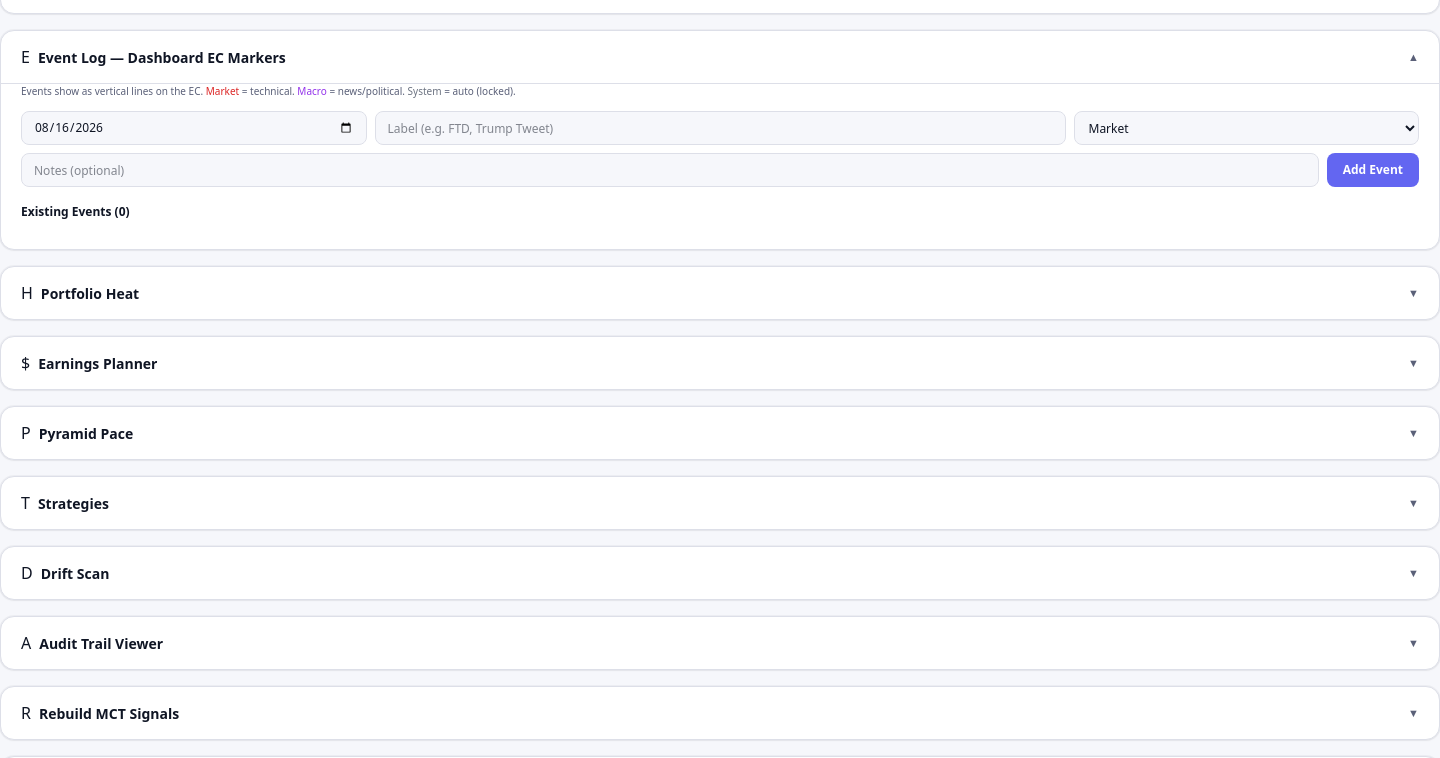
Admin — Strategies section › Add Strategy modal: client-side hex validation blocks submit on bad color
The image size is (1440, 758).
(page scrolled)
Click the text "Strategies" at (73, 503), box top-left (38, 494), bottom-right (109, 512)
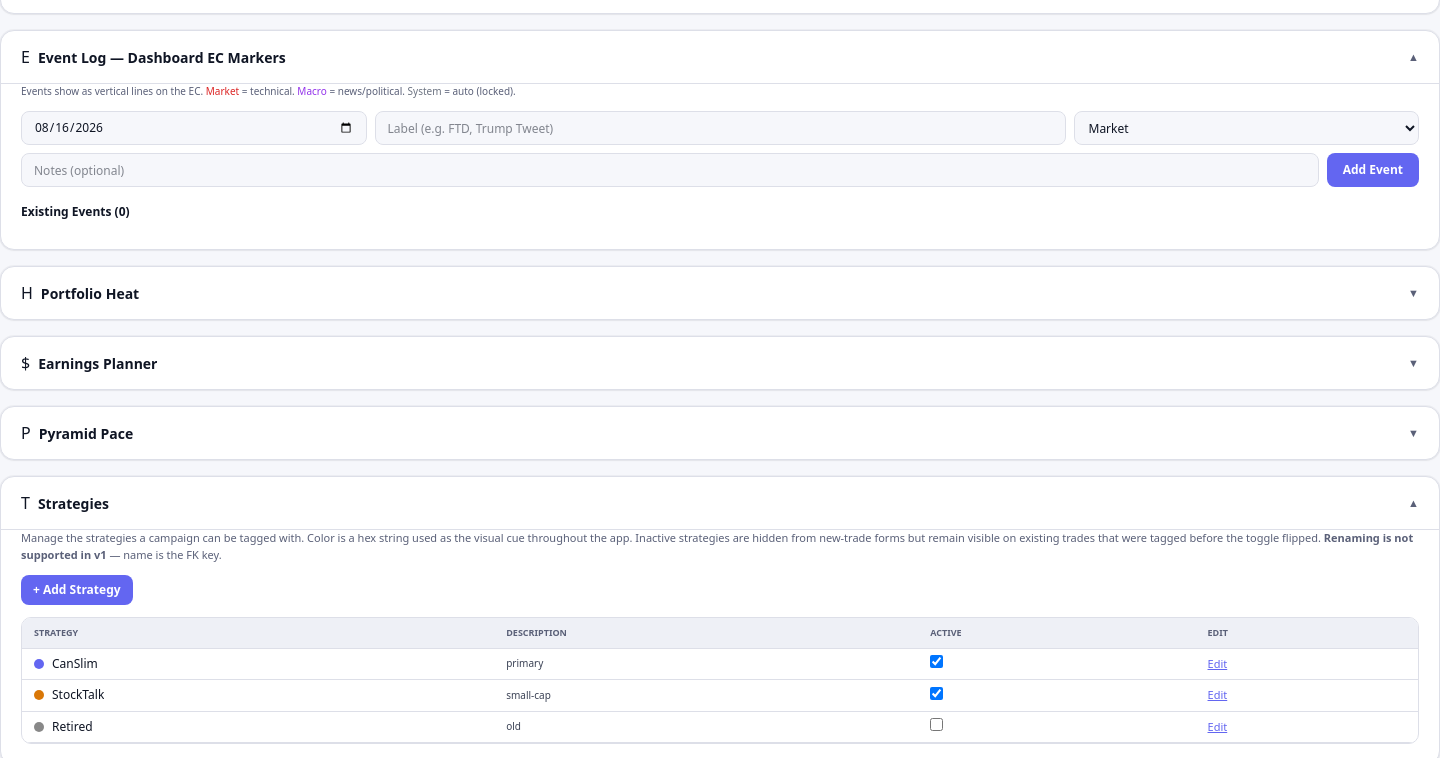
Click the button with test id "admin-add-strategy" at (77, 590), box top-left (21, 575), bottom-right (133, 605)
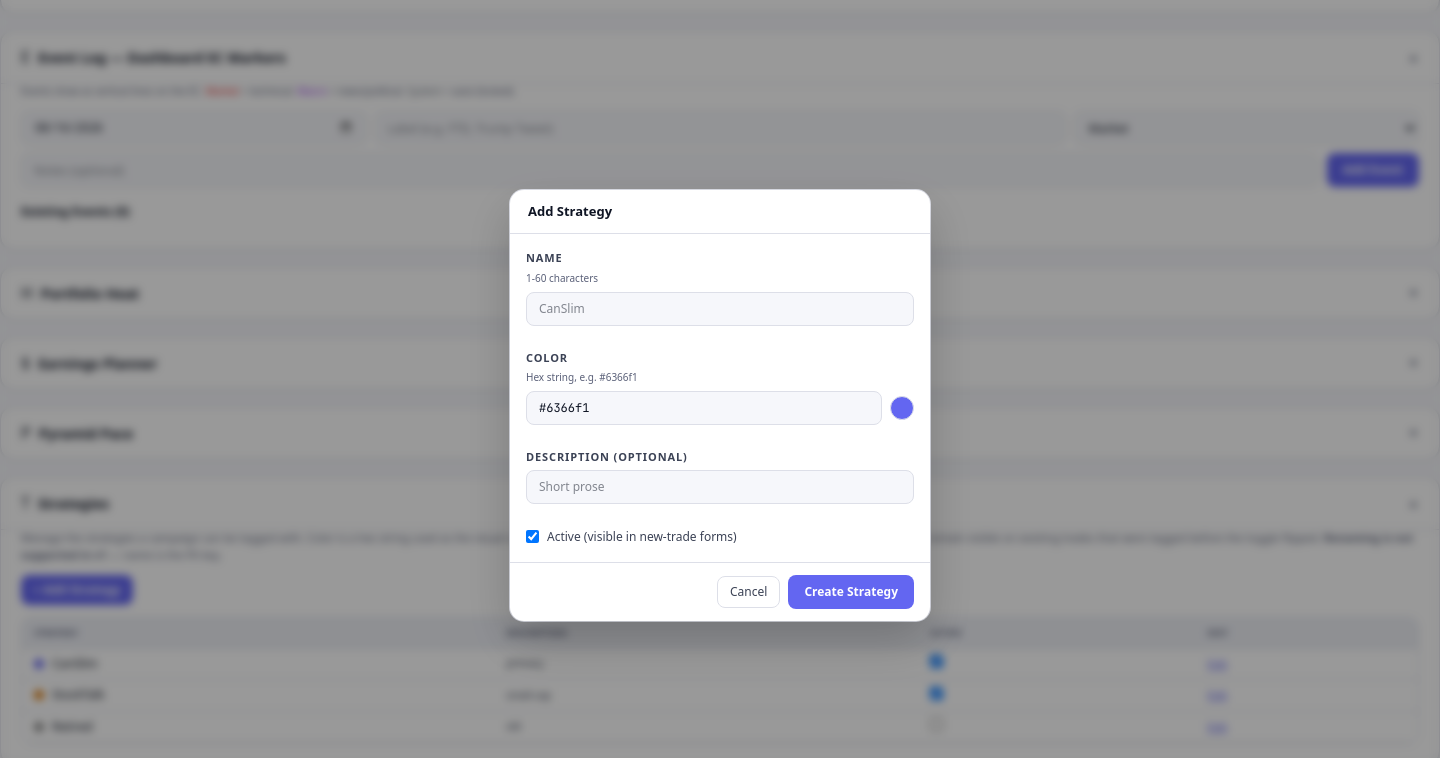
Type "Bad" into the field with placeholder "CanSlim" at (720, 308), box top-left (526, 292), bottom-right (914, 326)
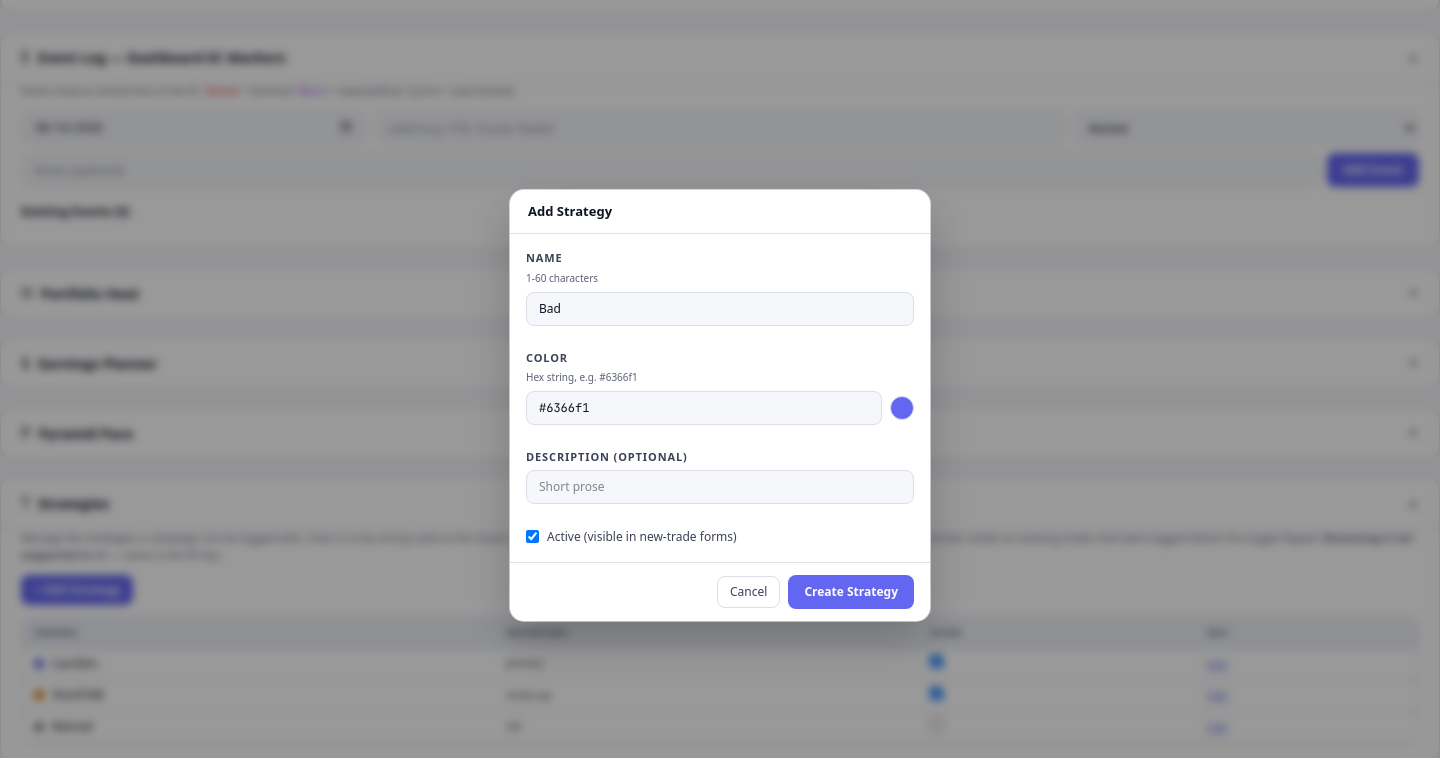
Type "not-hex" into the field with placeholder "#6366f1" below "Hex string, e.g. #6366f1" at (704, 408), box top-left (526, 391), bottom-right (882, 425)
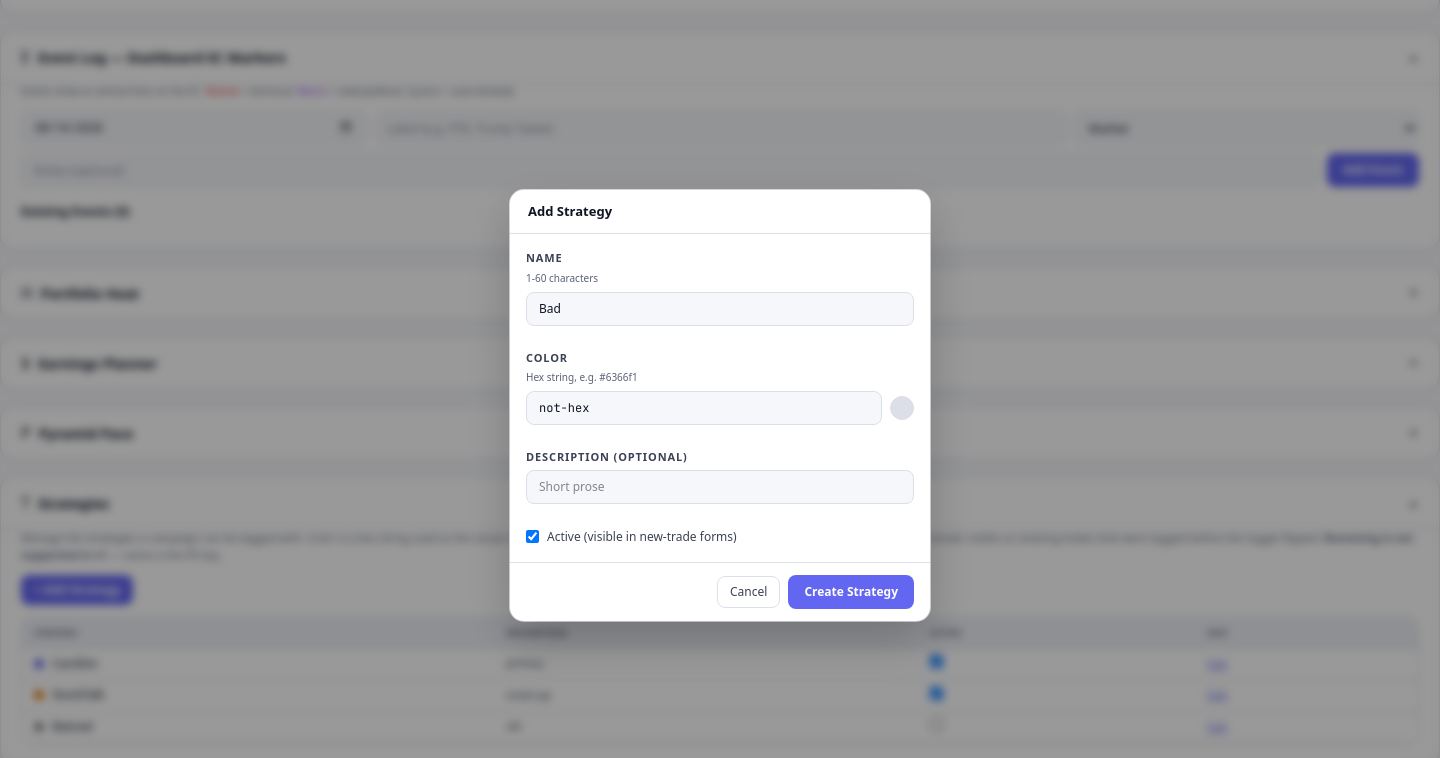
Click the button "Create Strategy" at (851, 592), box top-left (788, 574), bottom-right (914, 608)
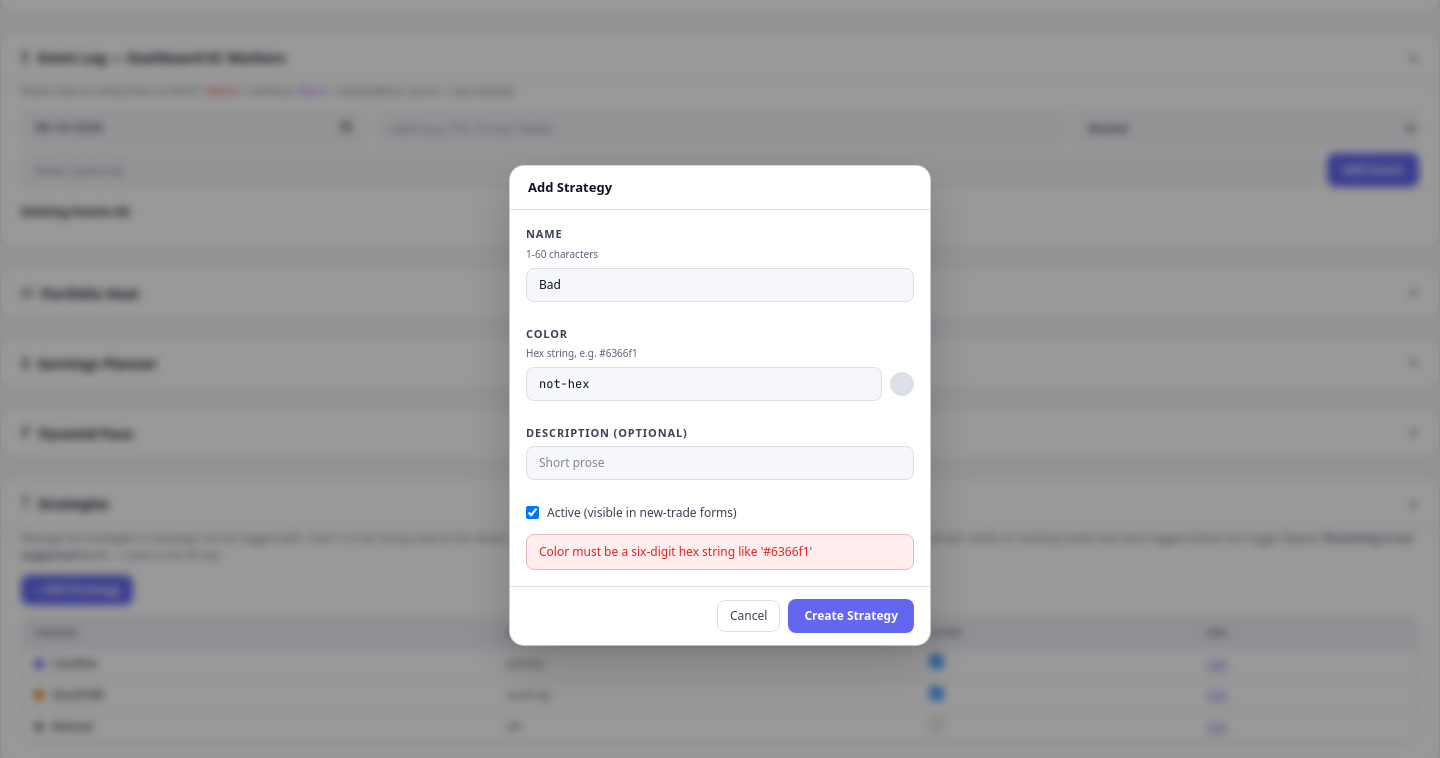
Expected: the text "Color must be a six-digit hex string like '#6366f1'" is shown, top-left (526, 534), bottom-right (914, 570)
